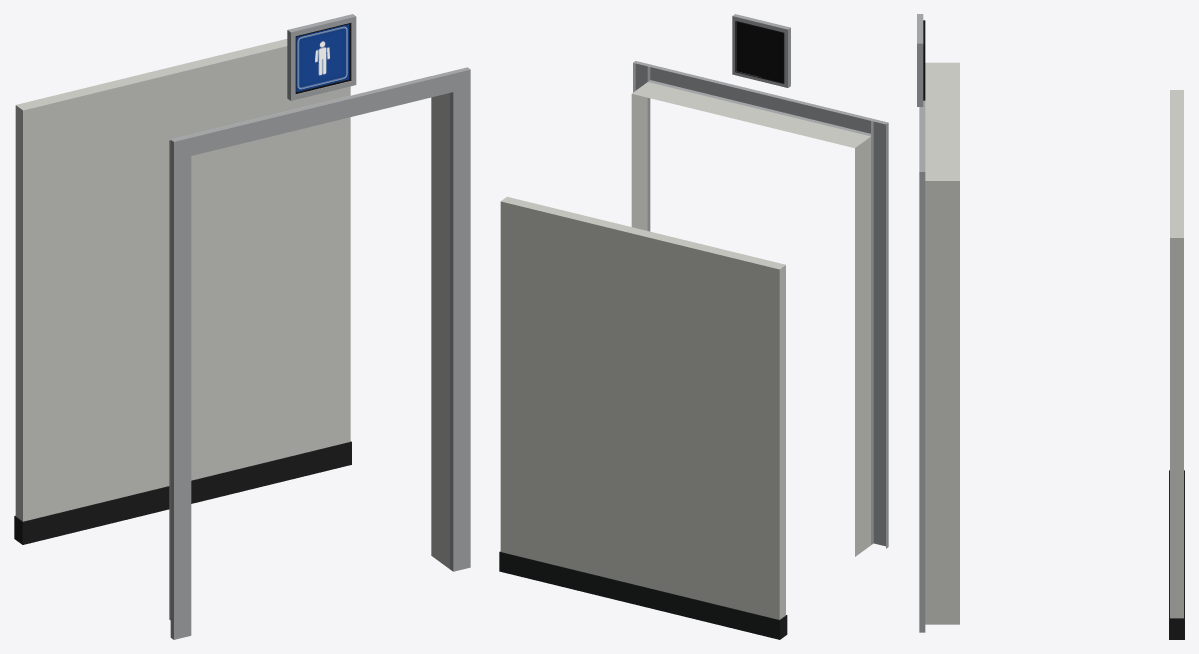
Rendered from gteki_toilet_entrance_male_maze.glb.
3 views of the same model, side by side, from view 1: azimuth 30°, elevation 25°; view 2: azimuth 150°, elevation 25°; view 3: azimuth 270°, elevation 25° (orthographic). The views are drawn at different scales.
Parts seen in each view (by area): view 1: VIS_body; view 2: VIS_body; view 3: VIS_body.
Boxes of the visible parts, x1=… form: VIS_body: x1=14, y1=14, x2=470, y2=639; VIS_body: x1=499, y1=14, x2=888, y2=639; VIS_body: x1=917, y1=14, x2=1184, y2=639.
Size of what is drawn, in the model's own units: 1.51 by 2.54 by 1.15.
Materials: 2 (2 with a texture image).
